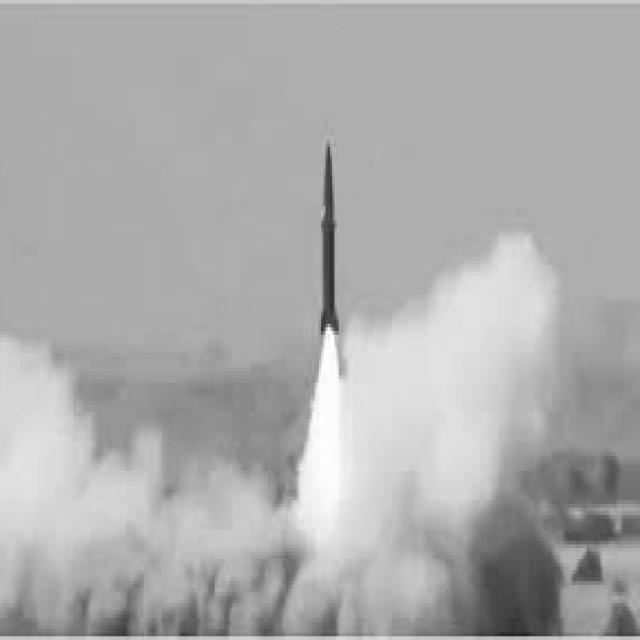missile: (319, 139, 337, 337)
